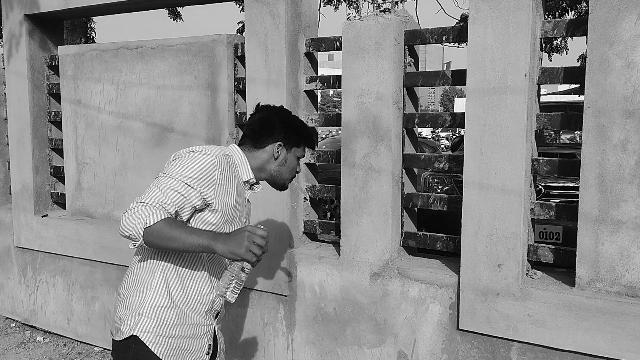spit: (157, 100, 379, 322)
